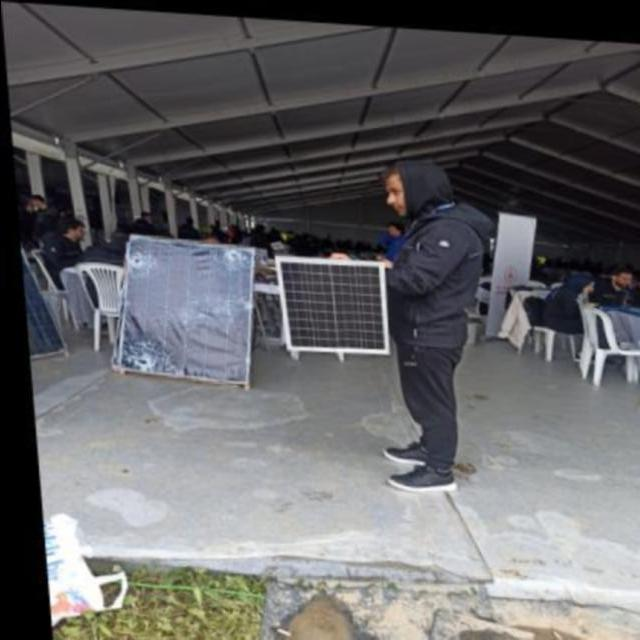cracked: (113, 235, 259, 396)
